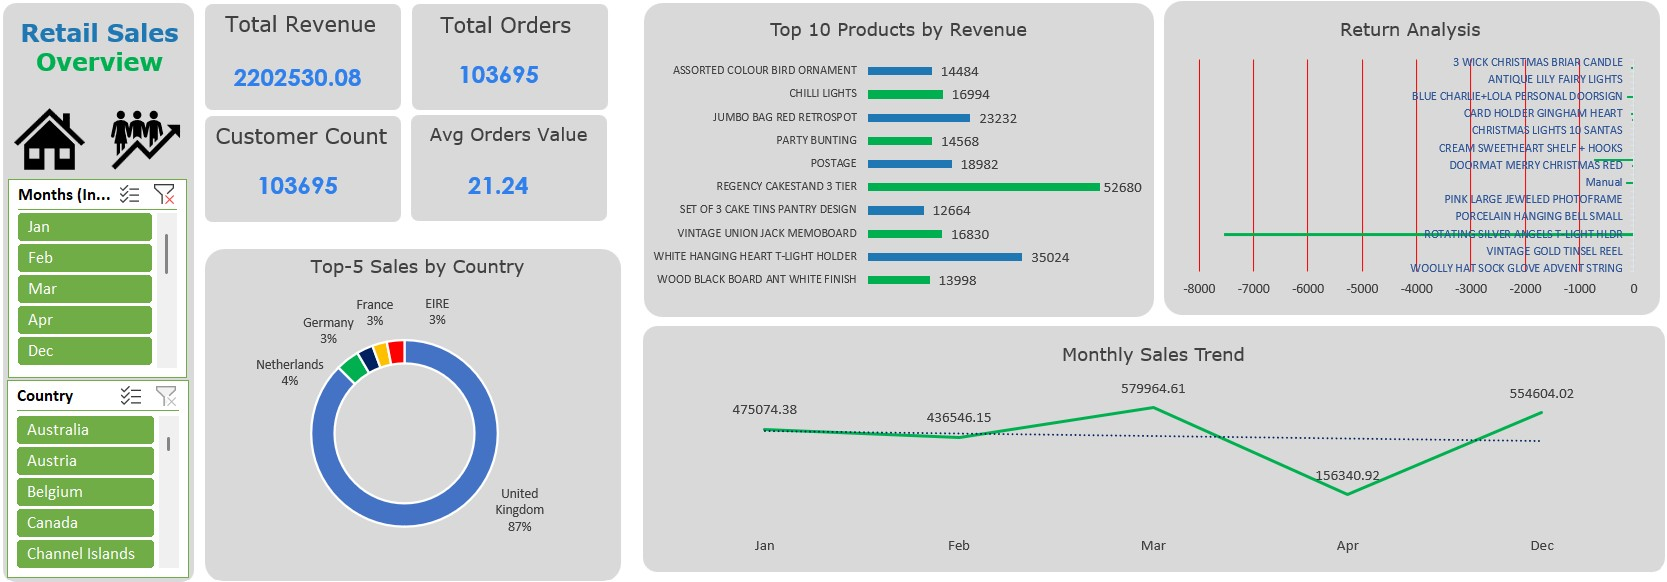

What the dashboard file says about the page in this screenshot:
{"tool":"powerbi","page":{"name":"overview","canvas":[1280,720],"ordinal":0},"visuals":[{"type":"shape","box":[13.5,9.8,1241.7,71.2],"z":0},{"type":"shape","box":[835.6,182.8,201.2,109.2],"z":0},{"type":"shape","box":[1051.5,182.8,214.7,109.2],"z":0},{"type":"shape","box":[614.7,185.3,207.4,106.7],"z":0},{"type":"shape","box":[13.5,90.8,1241.7,77.3],"z":1000},{"type":"shape","box":[404.9,182.8,193.9,109.2],"z":1000},{"type":"textbox","box":[1036.8,185.3,229.4,41.7],"z":1000},{"type":"textbox","box":[835.6,187.7,200,40.5],"z":1000},{"type":"shape","box":[13.5,184.1,381.6,526.4],"z":2000},{"type":"card","fields":{"Values":["db_retail cleaned_sale.Total customers"]},"box":[879.8,236.8,112.9,47.9],"z":2000},{"type":"card","fields":{"Values":["db_retail cleaned_sale.Average oreder values"]},"box":[1101.8,236.8,110.4,47.9],"z":2000},{"type":"shape","box":[404.9,304.3,419.6,406.1],"z":3000},{"type":"shape","box":[835.6,304.3,430.7,406.1],"z":4000},{"type":"lineChart","title":"Monthly Sales Trend","fields":{"Y":["db_retail cleaned_sale.Total revenue"],"Category":["db_retail cleaned_sale.Invoice_dt.Variation.Date Hierarchy.Month"]},"box":[404.9,304.3,419.6,406.1],"z":8000},{"type":"clusteredBarChart","title":"Top 10 Products","fields":{"Category":["db_retail cleaned_sale.Descr_iption"],"Y":["db_retail cleaned_sale.Total revenue"]},"box":[835.6,304.3,430.7,406.1],"z":9000},{"type":"textbox","box":[412.3,186.5,177.9,40.5],"z":9001},{"type":"textbox","box":[634.4,189,159.5,40.5],"z":9002},{"type":"card","fields":{"Values":["db_retail cleaned_sale.Total revenue"]},"box":[454,240.5,111.7,45.4],"z":9006},{"type":"card","fields":{"Values":["db_retail cleaned_sale.total orders"]},"box":[666.3,239.3,95.7,45.4],"z":9008},{"type":"clusteredBarChart","title":"Top 10 Countries by Sales","fields":{"Y":["db_retail cleaned_sale.Total revenue"],"Category":["db_retail cleaned_sale.Country"]},"box":[13.5,182.8,381.6,527.6],"z":10000},{"type":"slicer","title":"Country","fields":{"Values":["db_retail cleaned_sale.Country"]},"box":[494.5,90.8,208.6,77.3],"z":11000},{"type":"slicer","title":"Year-Month","fields":{"Values":["db_retail cleaned_sale.Invoice_dt.Variation.Date Hierarchy.Year","db_retail cleaned_sale.Invoice_dt.Variation.Date Hierarchy.Month"]},"box":[18.4,90.8,200,77.3],"z":12000},{"type":"slicer","title":"Product","fields":{"Values":["db_retail cleaned_sale.Descr_iption"]},"box":[1051.5,90.8,190.2,77.3],"z":13000},{"type":"textbox","box":[494.5,19.6,260.1,61.4],"z":14000},{"type":"textbox","box":[40.5,19.6,262.6,42.9],"z":15000},{"type":"textbox","box":[982.8,23.3,238,42.9],"z":16000},{"type":"actionButton","box":[982.8,23.3,238,42.9],"z":17000}]}

Visuals, with their boxes on the page's 1280x720 design canvas (x1, y1, x2, y2). These are canvas units, not pixel positions in the 1667x582 screenshot, which may show the page scaled, cropped or inside an application window:
shape: region(14, 10, 1255, 81)
shape: region(836, 183, 1037, 292)
shape: region(1052, 183, 1266, 292)
shape: region(615, 185, 822, 292)
shape: region(14, 91, 1255, 168)
shape: region(405, 183, 599, 292)
textbox: region(1037, 185, 1266, 227)
textbox: region(836, 188, 1036, 228)
shape: region(14, 184, 395, 710)
card - db_retail cleaned_sale.Total customers: region(880, 237, 993, 285)
card - db_retail cleaned_sale.Average oreder values: region(1102, 237, 1212, 285)
shape: region(405, 304, 824, 710)
shape: region(836, 304, 1266, 710)
"Monthly Sales Trend" lineChart: region(405, 304, 824, 710)
"Top 10 Products" clusteredBarChart: region(836, 304, 1266, 710)
textbox: region(412, 186, 590, 227)
textbox: region(634, 189, 794, 230)
card - db_retail cleaned_sale.Total revenue: region(454, 240, 566, 286)
card - db_retail cleaned_sale.total orders: region(666, 239, 762, 285)
"Top 10 Countries by Sales" clusteredBarChart: region(14, 183, 395, 710)
"Country" slicer: region(494, 91, 703, 168)
"Year-Month" slicer: region(18, 91, 218, 168)
"Product" slicer: region(1052, 91, 1242, 168)
textbox: region(494, 20, 755, 81)
textbox: region(40, 20, 303, 62)
textbox: region(983, 23, 1221, 66)
actionButton: region(983, 23, 1221, 66)
